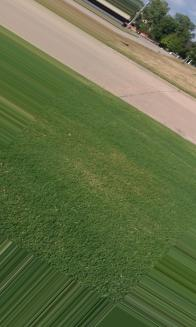patch: (164, 61, 184, 86), (138, 51, 154, 70), (187, 68, 196, 85)
